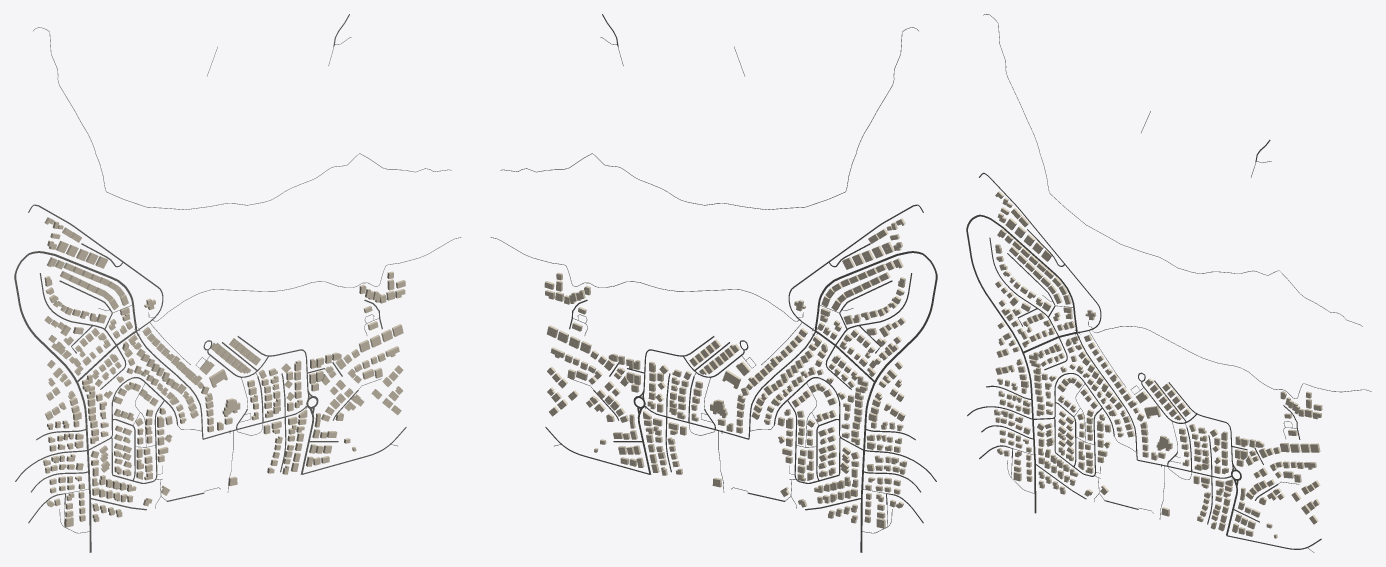
The model's file is historic-palestine-08_27_3499_3213.glb.
The picture shows the model from 3 angles, left to right: view 1: azimuth 30°, elevation 25°; view 2: azimuth 150°, elevation 25°; view 3: azimuth 330°, elevation 25°; orthographic projection. The views are drawn at different scales.
Parts seen in each view (by area): view 1: Road הזית, Road .004; view 2: Road הזית, Road .004; view 3: Road הזית, Road .004.
Part boxes in pixels (left/top/right/bottom): Road הזית: left=14, top=251, right=137, bottom=552; Road .004: left=33, top=27, right=451, bottom=209; Road הזית: left=814, top=251, right=937, bottom=552; Road .004: left=500, top=27, right=918, bottom=209; Road הזית: left=966, top=214, right=1077, bottom=513; Road .004: left=983, top=14, right=1362, bottom=326.
Size of the model in its own units: 1201 by 1382 by 8.7.
